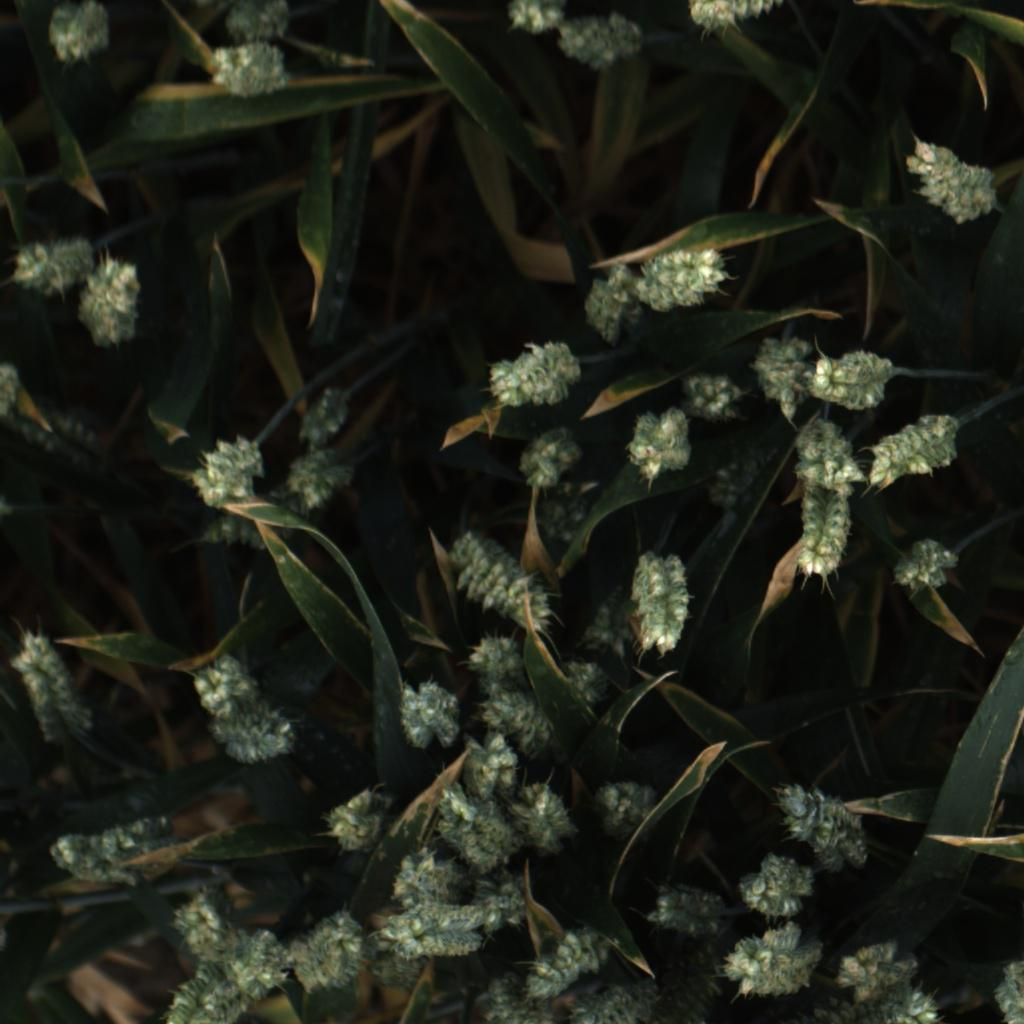0-0: (163, 886, 290, 1012), (192, 456, 341, 547), (0, 356, 109, 473), (635, 913, 745, 1024), (188, 645, 294, 757), (763, 975, 982, 1024), (444, 529, 553, 626), (898, 137, 998, 228), (20, 626, 93, 746), (719, 923, 825, 1005), (780, 775, 874, 866), (286, 903, 367, 995), (286, 373, 372, 458), (643, 233, 732, 314), (435, 784, 515, 873), (553, 4, 650, 77), (51, 817, 151, 887), (632, 545, 693, 659), (873, 412, 963, 488), (385, 897, 491, 959), (840, 926, 925, 1003), (577, 573, 648, 664), (733, 844, 818, 920), (488, 339, 576, 412), (790, 485, 854, 585), (79, 261, 149, 352), (468, 863, 543, 946), (527, 921, 613, 993), (205, 35, 292, 105), (705, 434, 786, 509), (186, 431, 262, 510), (576, 258, 648, 340), (808, 350, 900, 413), (625, 402, 697, 481), (391, 676, 467, 750), (790, 416, 866, 490), (456, 734, 533, 805), (517, 778, 585, 857), (751, 334, 814, 419), (645, 871, 727, 935), (360, 916, 428, 993), (159, 958, 238, 1024), (15, 233, 91, 301), (486, 688, 565, 753), (221, 925, 285, 1003), (516, 421, 586, 491), (590, 774, 663, 840), (46, 0, 112, 71), (319, 787, 388, 854), (567, 976, 661, 1024), (289, 442, 356, 509), (521, 489, 592, 552), (394, 848, 472, 905), (892, 532, 962, 594), (679, 0, 799, 35), (555, 652, 620, 716), (457, 634, 528, 689), (676, 368, 744, 423), (864, 985, 955, 1024), (482, 976, 553, 1024), (225, 0, 298, 43), (498, 0, 574, 39)
